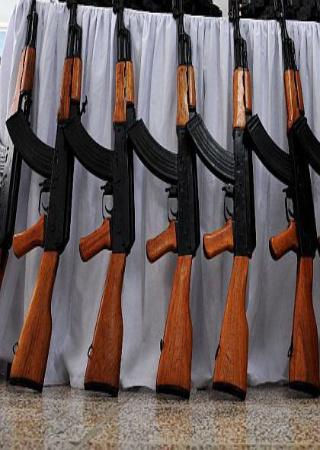rifle: (248, 0, 320, 401), (78, 3, 149, 409), (148, 2, 204, 402)
